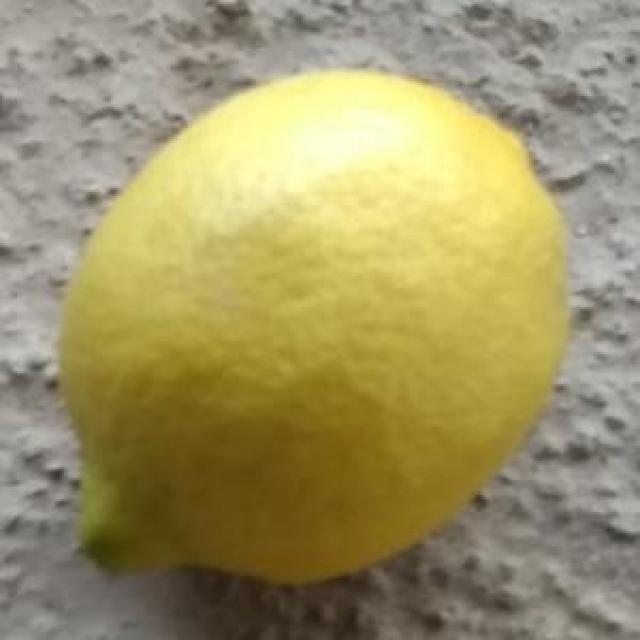lemon: (52, 65, 590, 600)
